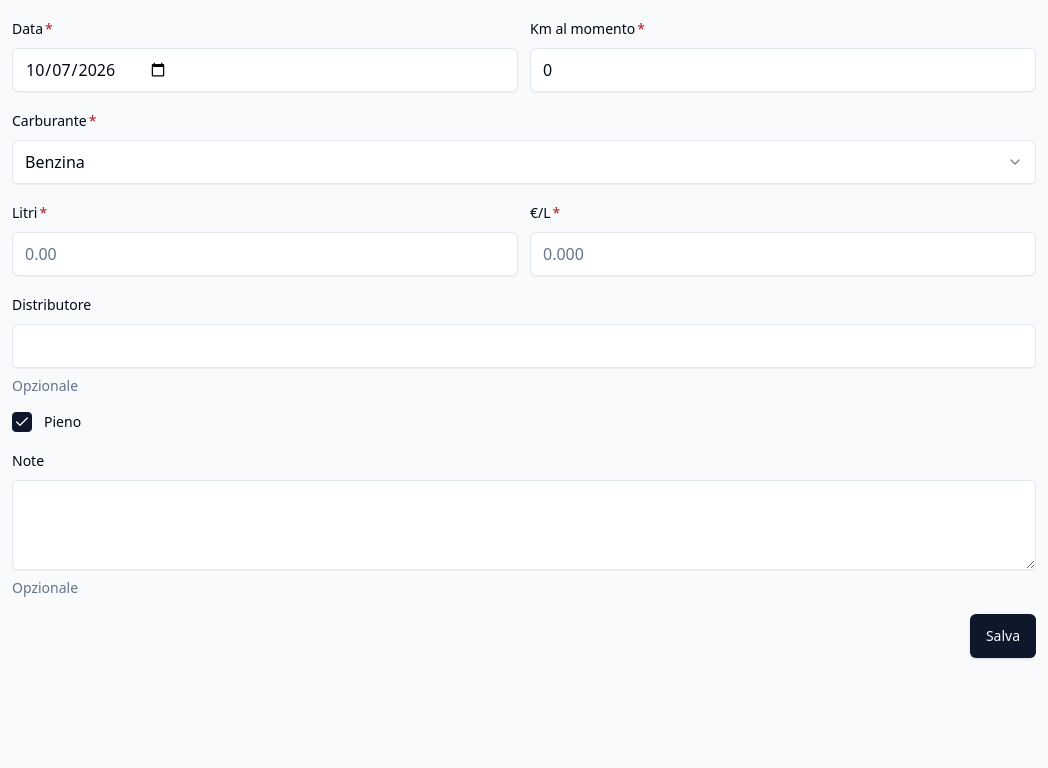
RefuelingForm › testo non numerico: errore sul campo, nessun invio
Step 1. Type "abc" into the field labelled "Litri*" → x=265, y=254, box [12, 232, 518, 276]
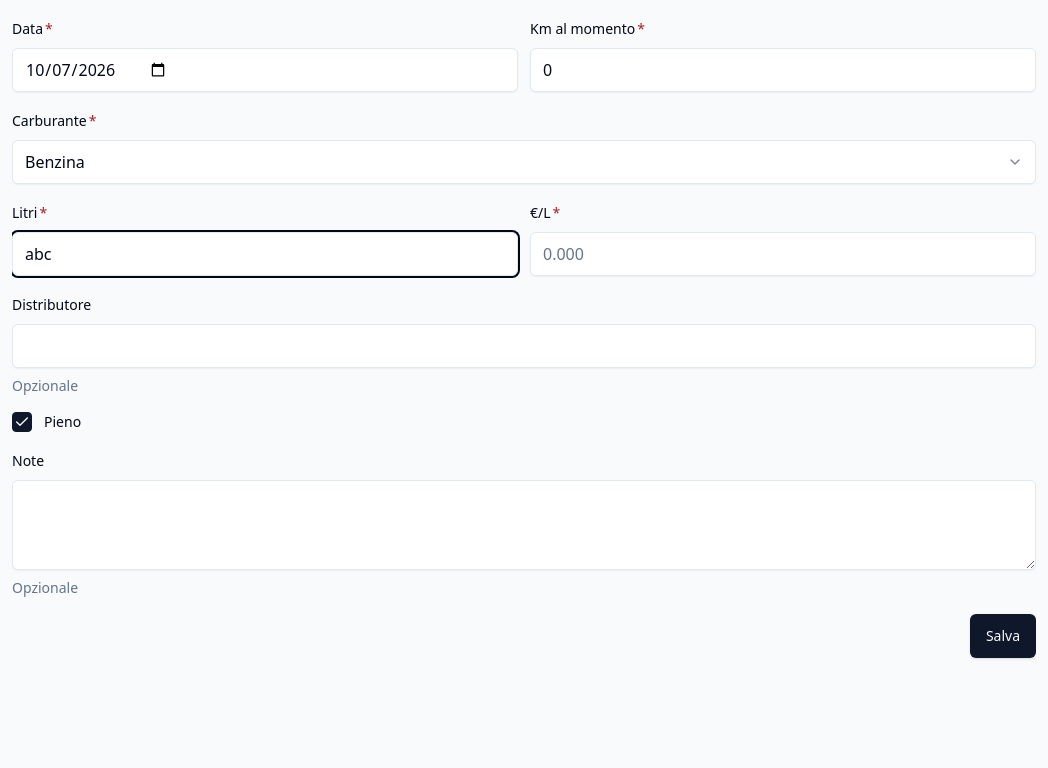
Step 2. Type "1,8" into the field labelled "€/L*" → x=783, y=254, box [530, 232, 1036, 276]
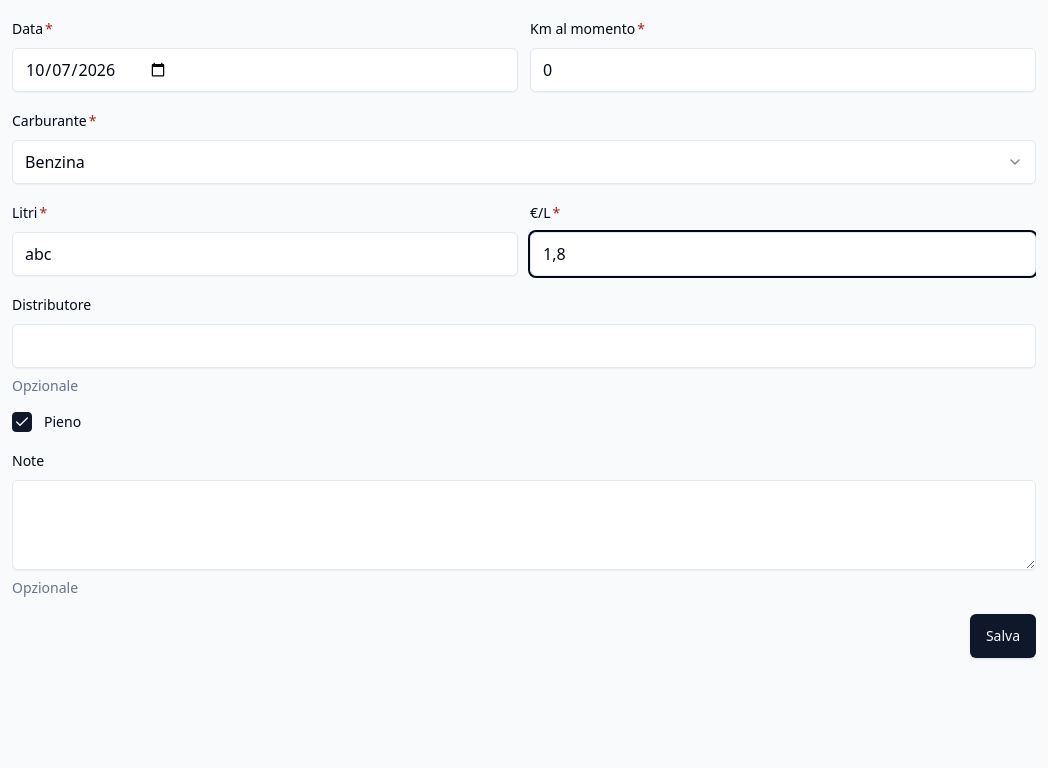
Step 3. Click the button "Salva" → x=1003, y=636, box [970, 614, 1036, 658]
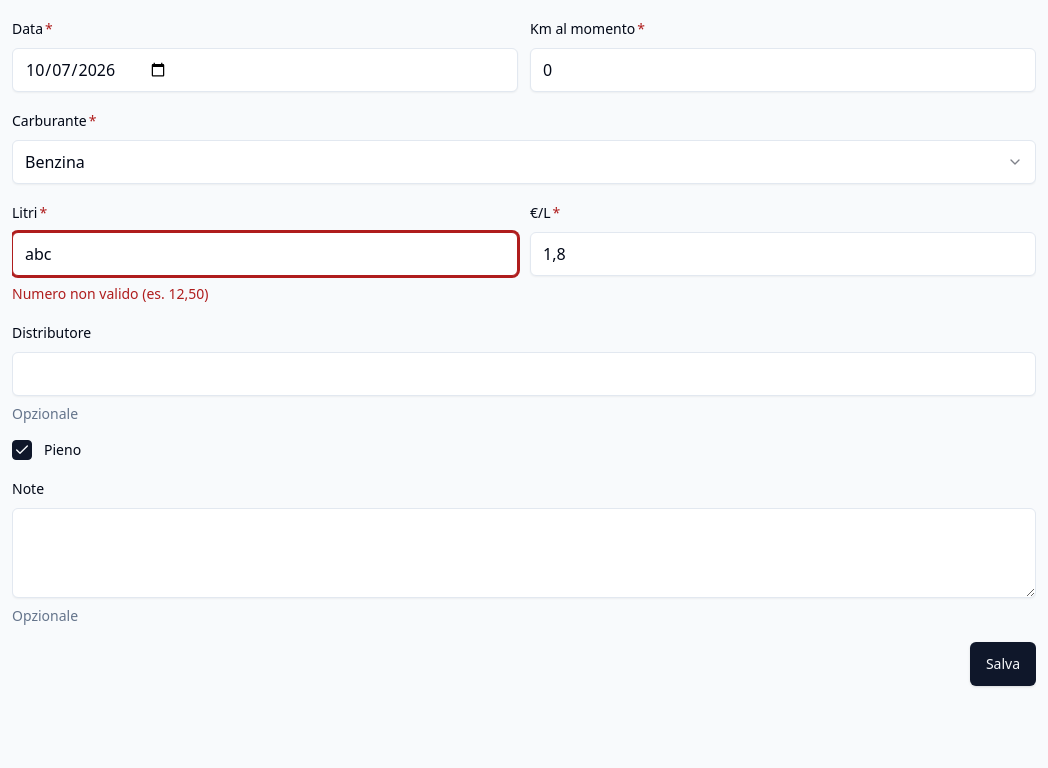
Now the text "Numero non valido (es. 12,50)" is shown, box [12, 284, 208, 303]
